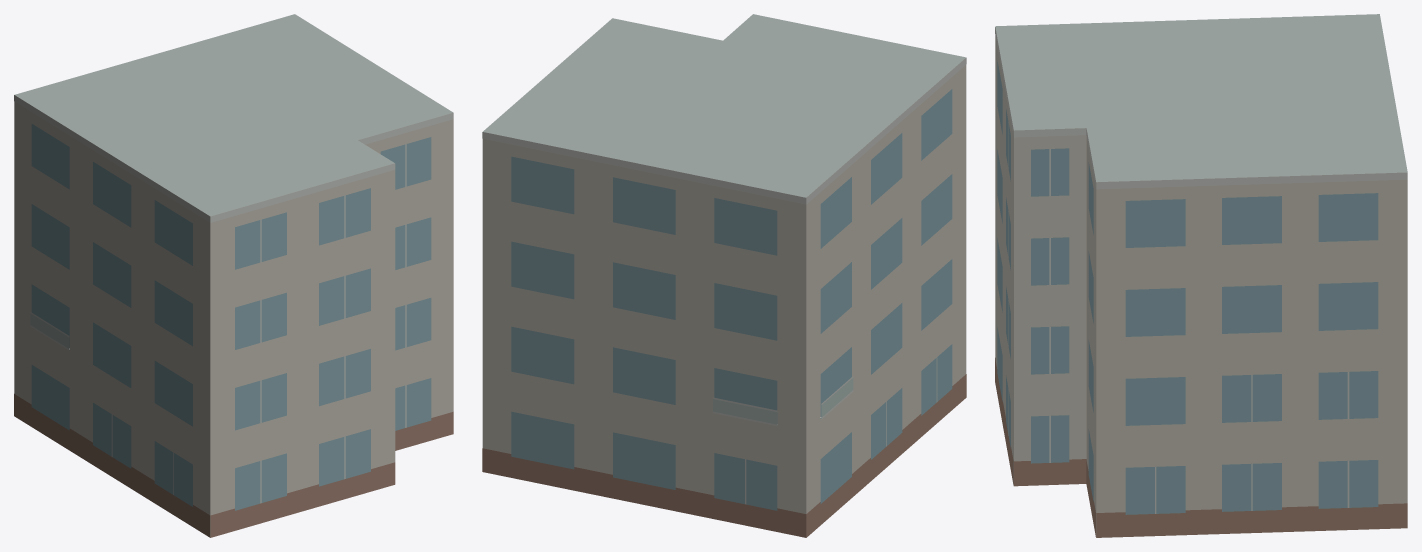
The model's file is residential-e8c593b8-008d-4dae-86eb-99b41ef3c8ff.glb.
The picture shows the model from 3 angles, left to right: view 1: azimuth 30°, elevation 25°; view 2: azimuth 150°, elevation 25°; view 3: azimuth 270°, elevation 25°; orthographic projection. The views are drawn at different scales.
Visible parts, largest first — view 1: residential-e8c593b8-008d-4dae-86eb-99b41ef3c8ff.tmp; view 2: residential-e8c593b8-008d-4dae-86eb-99b41ef3c8ff.tmp; view 3: residential-e8c593b8-008d-4dae-86eb-99b41ef3c8ff.tmp.
Boxes of the visible parts, bbox=[...] form: residential-e8c593b8-008d-4dae-86eb-99b41ef3c8ff.tmp: bbox=[14, 14, 453, 537]; residential-e8c593b8-008d-4dae-86eb-99b41ef3c8ff.tmp: bbox=[482, 14, 966, 537]; residential-e8c593b8-008d-4dae-86eb-99b41ef3c8ff.tmp: bbox=[995, 14, 1407, 537].
Size of the model in its own units: 12.38 by 12.2 by 12.84.
